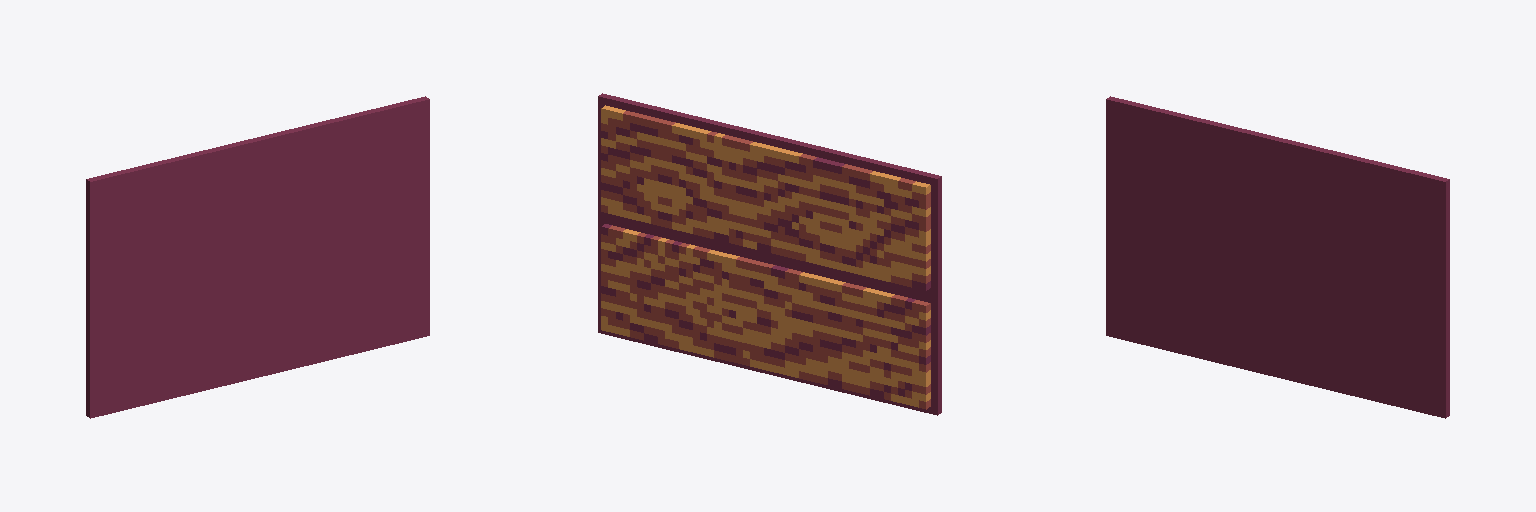
3 views of the same model, side by side, from view 1: azimuth 30°, elevation 25°; view 2: azimuth 150°, elevation 25°; view 3: azimuth 330°, elevation 25° (orthographic).
Visible parts, largest first — view 1: Wall.013_Wall.014; view 2: Wall.013_Wall.014; view 3: Wall.013_Wall.014.
Boxes of the visible parts, box(x1,y1,x2,y2) form: Wall.013_Wall.014: box(86, 96, 429, 418); Wall.013_Wall.014: box(598, 93, 941, 415); Wall.013_Wall.014: box(1106, 96, 1449, 418).
Size of the model in its own units: 4.8 by 3.2 by 0.2.
Materials: 1 (1 with a texture image).